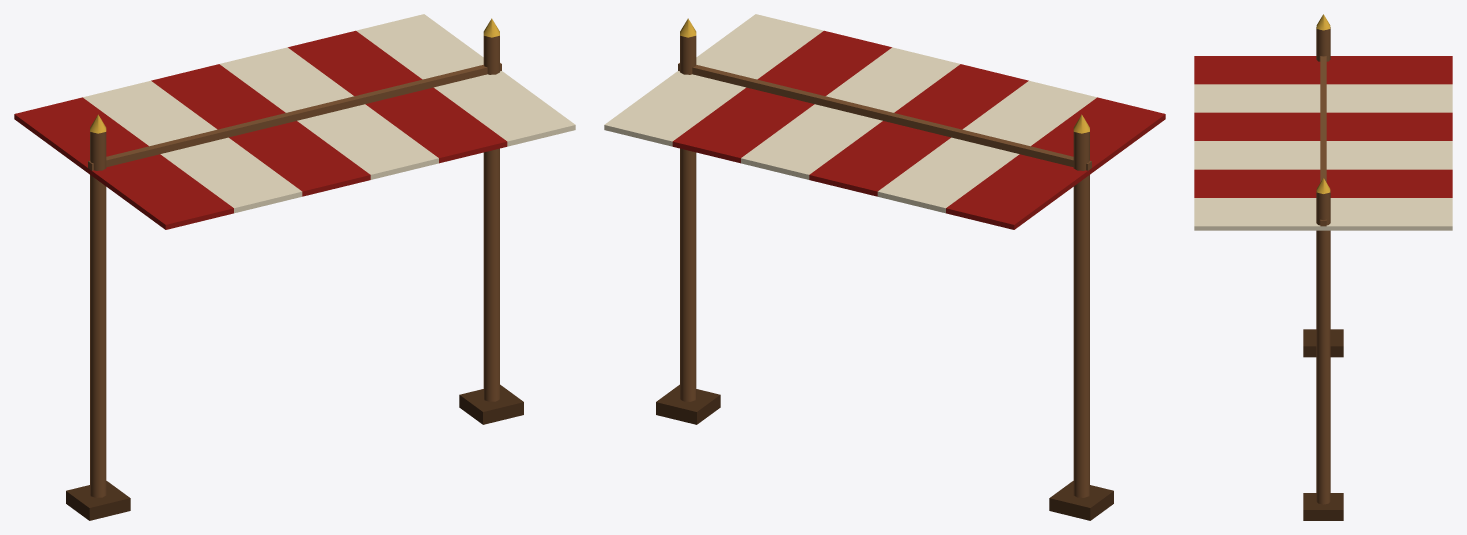
The model's file is im_velarium.glb.
3 renders of one model, left to right at view 1: azimuth 30°, elevation 25°; view 2: azimuth 150°, elevation 25°; view 3: azimuth 270°, elevation 25°, orthographic. The views are drawn at different scales.
Visible parts, largest first — view 1: im_velarium; view 2: im_velarium; view 3: im_velarium.
Boxes of the visible parts, x1=… form: im_velarium: x1=14, y1=14, x2=575, y2=520; im_velarium: x1=604, y1=14, x2=1165, y2=520; im_velarium: x1=1194, y1=14, x2=1452, y2=520.
Size of the model in its own units: 5.3 by 4.58 by 3.2.
